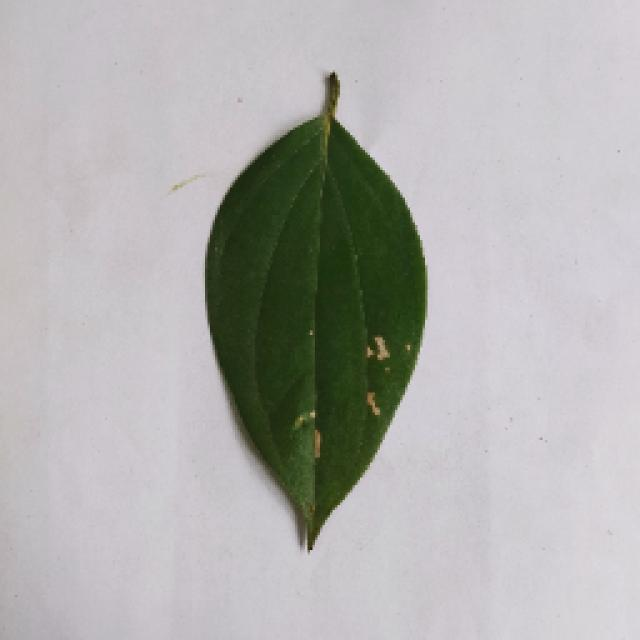pollu-disease: (198, 78, 428, 552)
